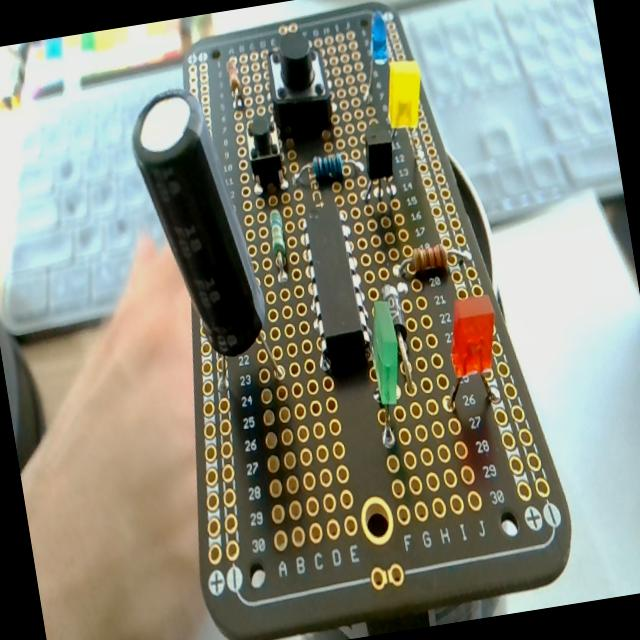Electrolytic capacitor: (127, 80, 291, 418)
IC: (293, 210, 374, 380)
diode: (381, 283, 418, 394)
led: (433, 292, 509, 414), (360, 300, 412, 449), (379, 56, 428, 134), (360, 11, 396, 74)
resistor: (390, 240, 471, 283), (293, 148, 366, 190), (265, 208, 293, 287), (224, 55, 245, 108)
switch: (263, 27, 335, 134), (242, 112, 286, 193)
transistor: (353, 124, 404, 212)
